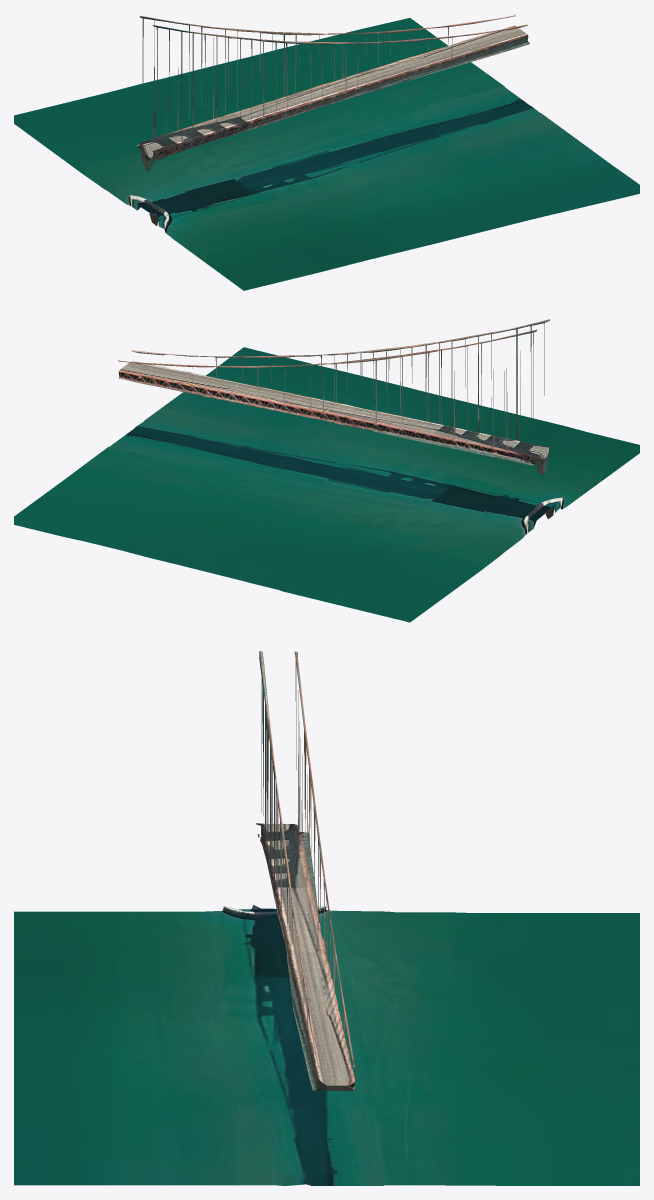
File: z16-10471-25321-h0-yup-uvflip-v3-world.glb
3 views of the same model, one above another, from view 1: azimuth 30°, elevation 25°; view 2: azimuth 150°, elevation 25°; view 3: azimuth 270°, elevation 25° (orthographic). The views are drawn at different scales.
Bounding box in the file's own units: 483 × 234 × 485.
1 material, 1 textured.
